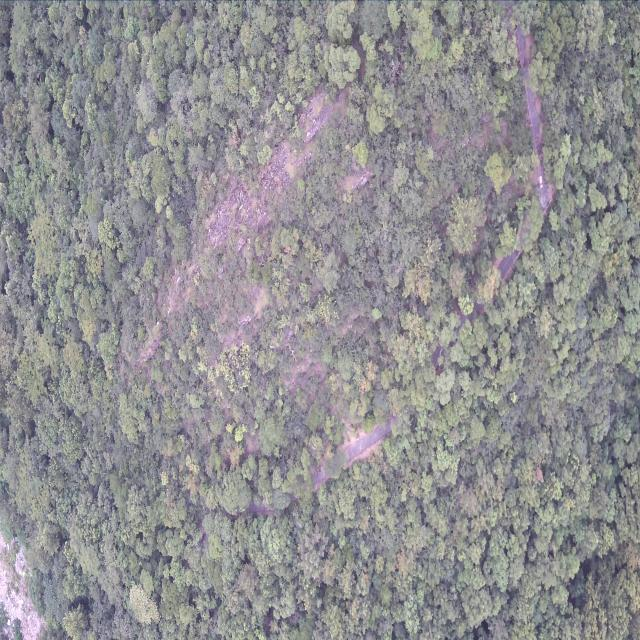drone: (290, 350, 294, 356)
